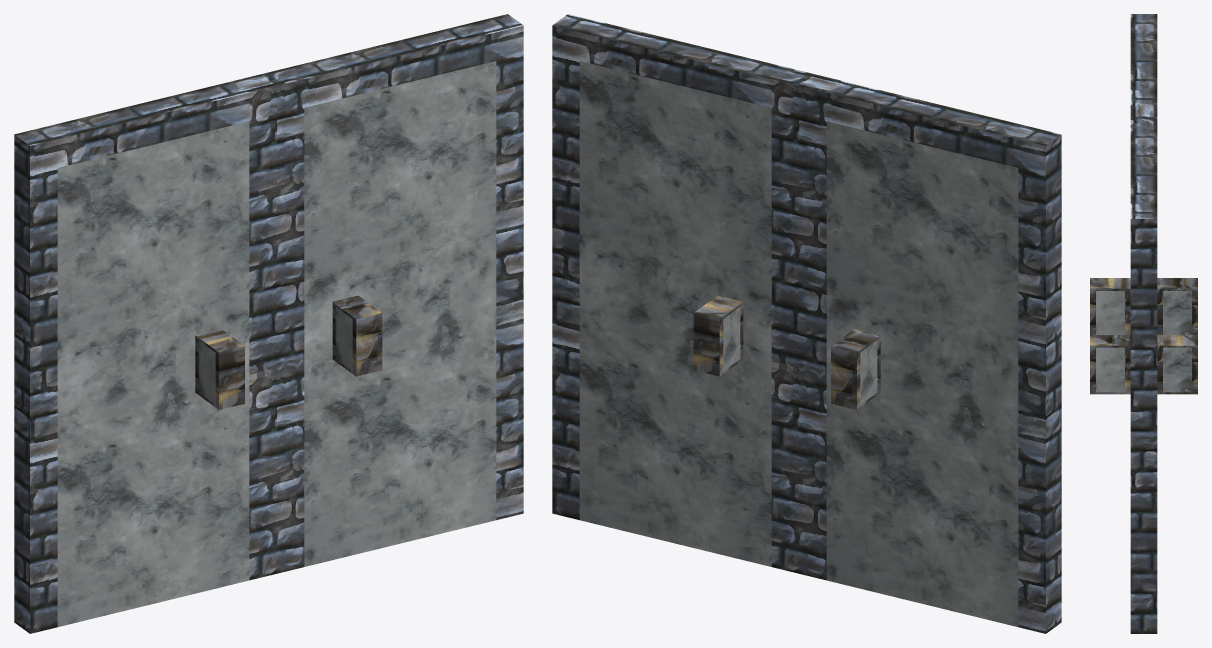
Rendered from UnlockedDoor.obj.
3 views of the same model, side by side, from view 1: azimuth 30°, elevation 25°; view 2: azimuth 150°, elevation 25°; view 3: azimuth 270°, elevation 25° (orthographic). The views are drawn at different scales.
Bounding box in the file's own units: 1.8 × 1.7 × 0.4.
Materials: 4 (4 with a texture image).
